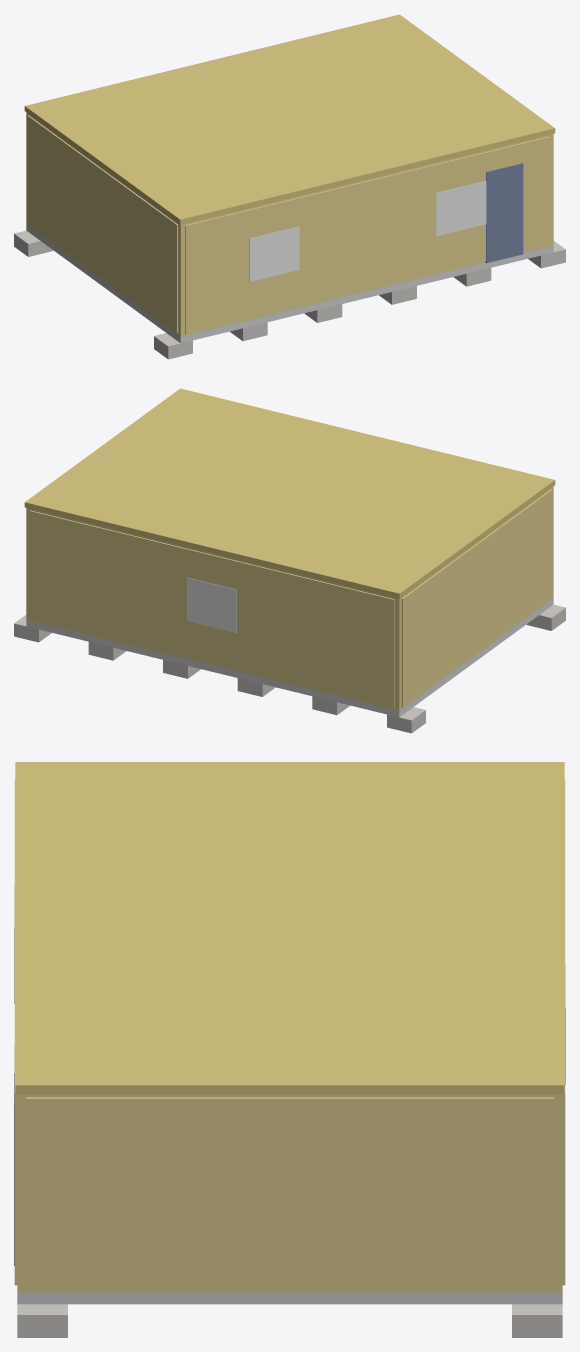
Rendered from Studio-30-Base-DesertYellow-LOD0.glb.
3 views of the same model, one above another, from view 1: azimuth 30°, elevation 25°; view 2: azimuth 150°, elevation 25°; view 3: azimuth 270°, elevation 25° (orthographic). The views are drawn at different scales.
Visible parts, largest first — view 1: RoofMain, ExteriorPanelsStandard, WindowsStandard, BaseFrame, FoundationBlocks, ExteriorShell, EntryDoor; view 2: RoofMain, ExteriorPanelsStandard, BaseFrame, FoundationBlocks, ExteriorShell, WindowsStandard; view 3: RoofMain, ExteriorPanelsStandard, ExteriorShell, BaseFrame, FoundationBlocks.
Boxes of the visible parts, x1,y1,x2,y2 form: RoofMain: (24, 14, 555, 224); ExteriorPanelsStandard: (27, 115, 550, 334); WindowsStandard: (249, 181, 486, 281); BaseFrame: (26, 224, 553, 343); FoundationBlocks: (14, 230, 565, 359); ExteriorShell: (26, 112, 553, 336); EntryDoor: (485, 163, 523, 263); RoofMain: (24, 388, 555, 598); ExteriorPanelsStandard: (30, 489, 552, 708); BaseFrame: (26, 598, 553, 717); FoundationBlocks: (14, 604, 565, 733); ExteriorShell: (26, 486, 553, 710); WindowsStandard: (187, 577, 236, 633); RoofMain: (15, 762, 564, 1094); ExteriorPanelsStandard: (14, 779, 565, 1289); ExteriorShell: (17, 1094, 562, 1292); BaseFrame: (17, 1292, 562, 1304); FoundationBlocks: (17, 1304, 562, 1337).
Bounding box in the file's own units: 9.6 × 3.17 × 6.53.
